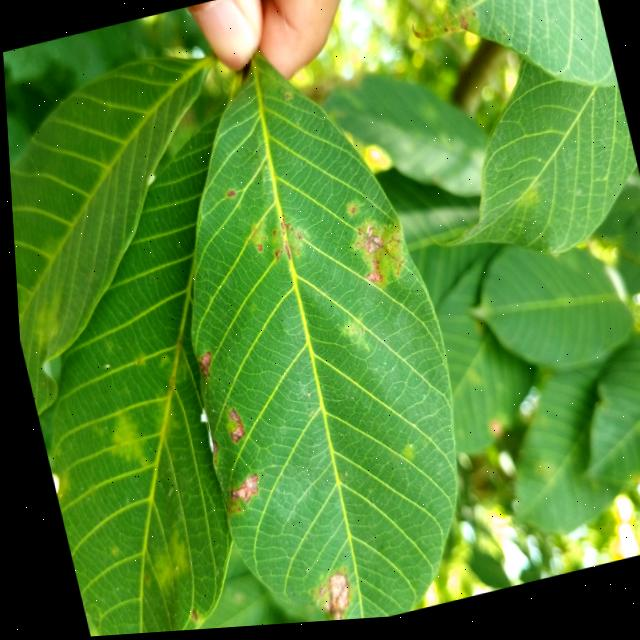Leaf-Blight: (308, 577, 348, 625)
